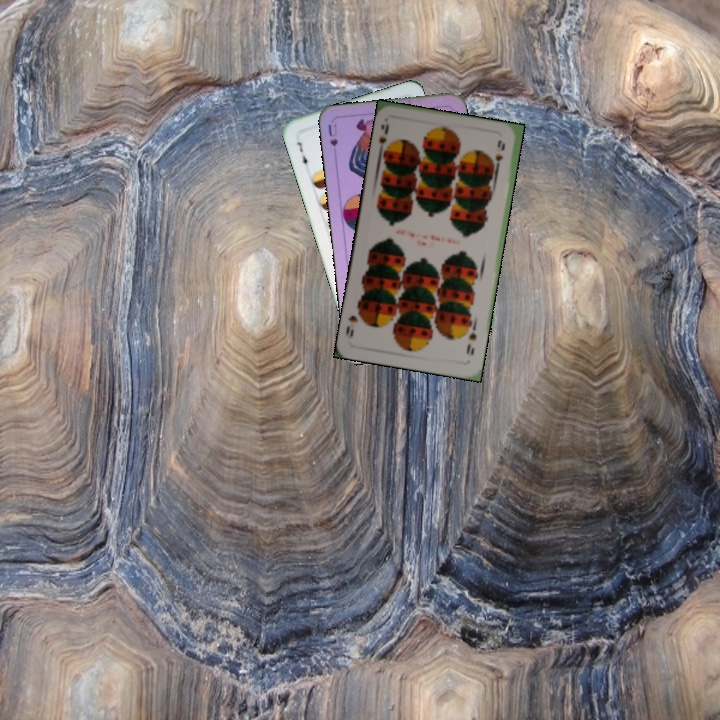E7: (293, 137, 310, 171)
S9: (375, 116, 393, 157), (462, 322, 479, 358)
SU: (324, 120, 340, 160)
